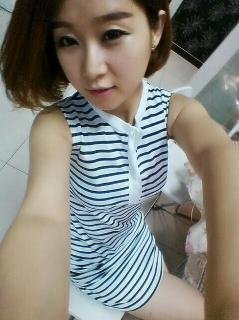vest: (56, 80, 172, 311)
